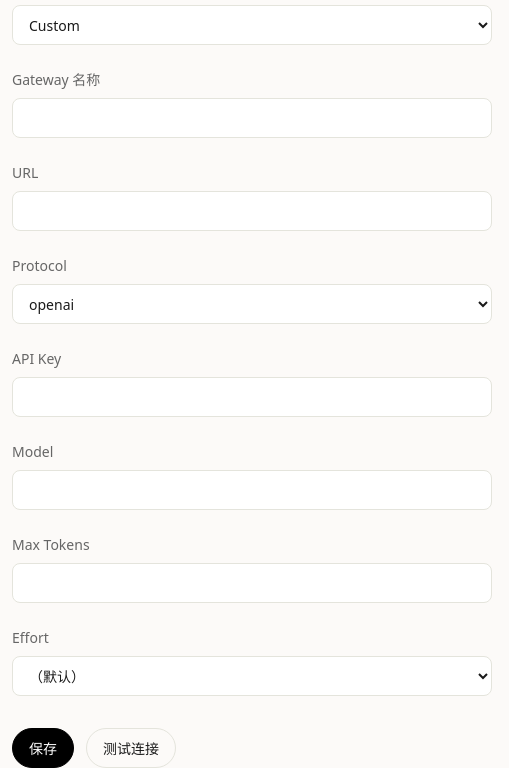
Test case: ProviderForm 网关名校验 › 网关名为空时提示填写且不保存
This screenshot has width=509, height=768.
(page scrolled)
Click the button "保存".
click(43, 748)  # box 12,728 -> 74,767
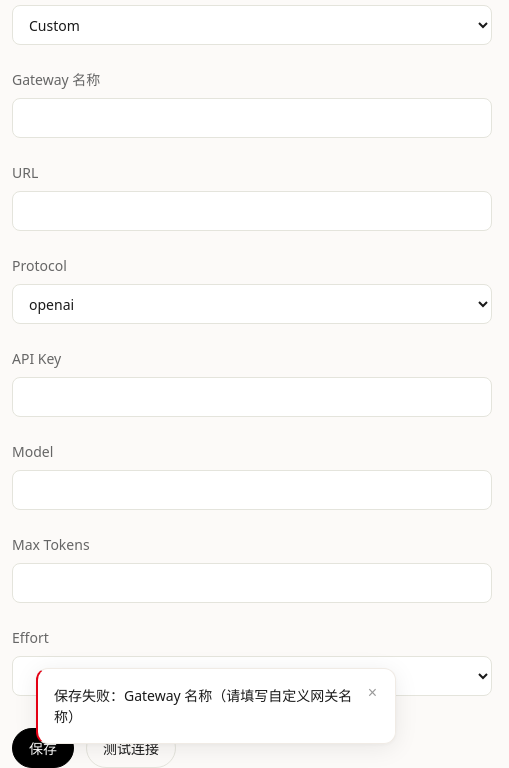
Expected: the text "保存失败：Gateway 名称（请填写自定义网关名称）" is shown, 54,685 -> 358,727
